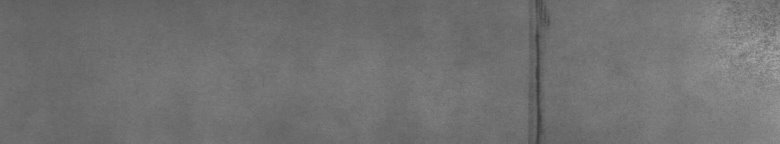hd: (525, 4, 552, 136)
